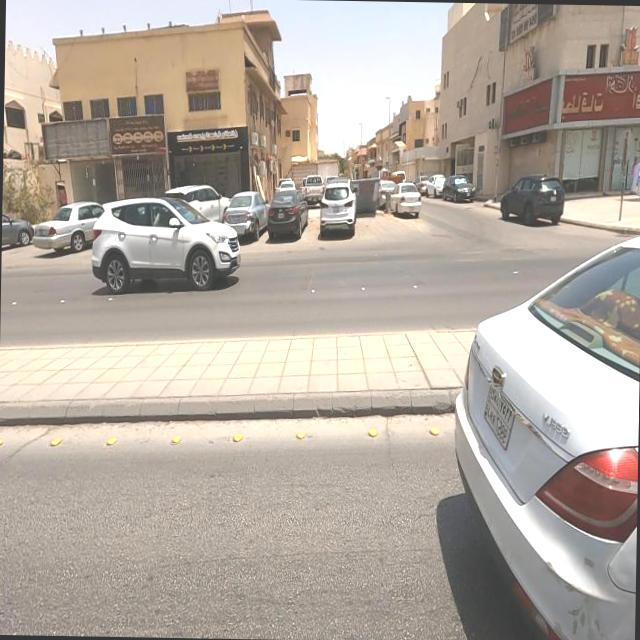debris: (5, 69, 148, 204), (464, 45, 584, 181)
